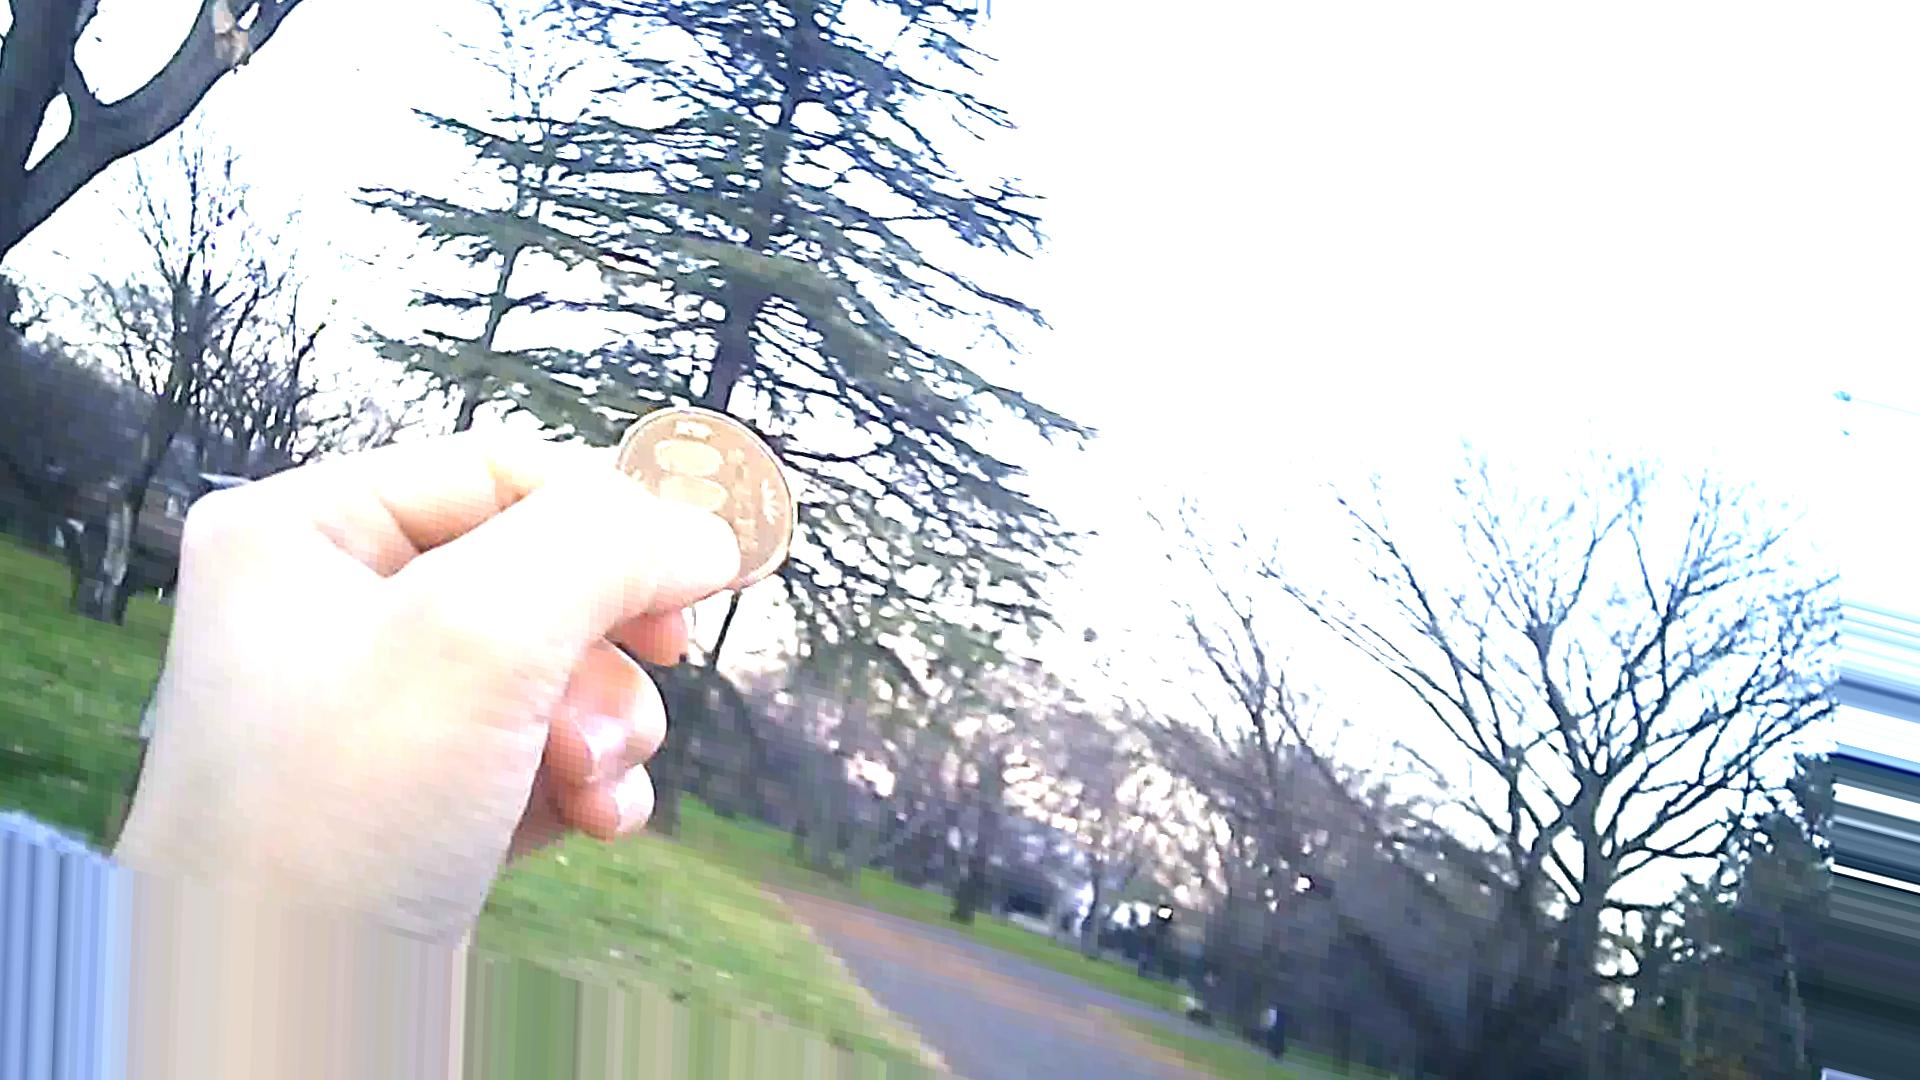500 Yen: (603, 396, 804, 592)
